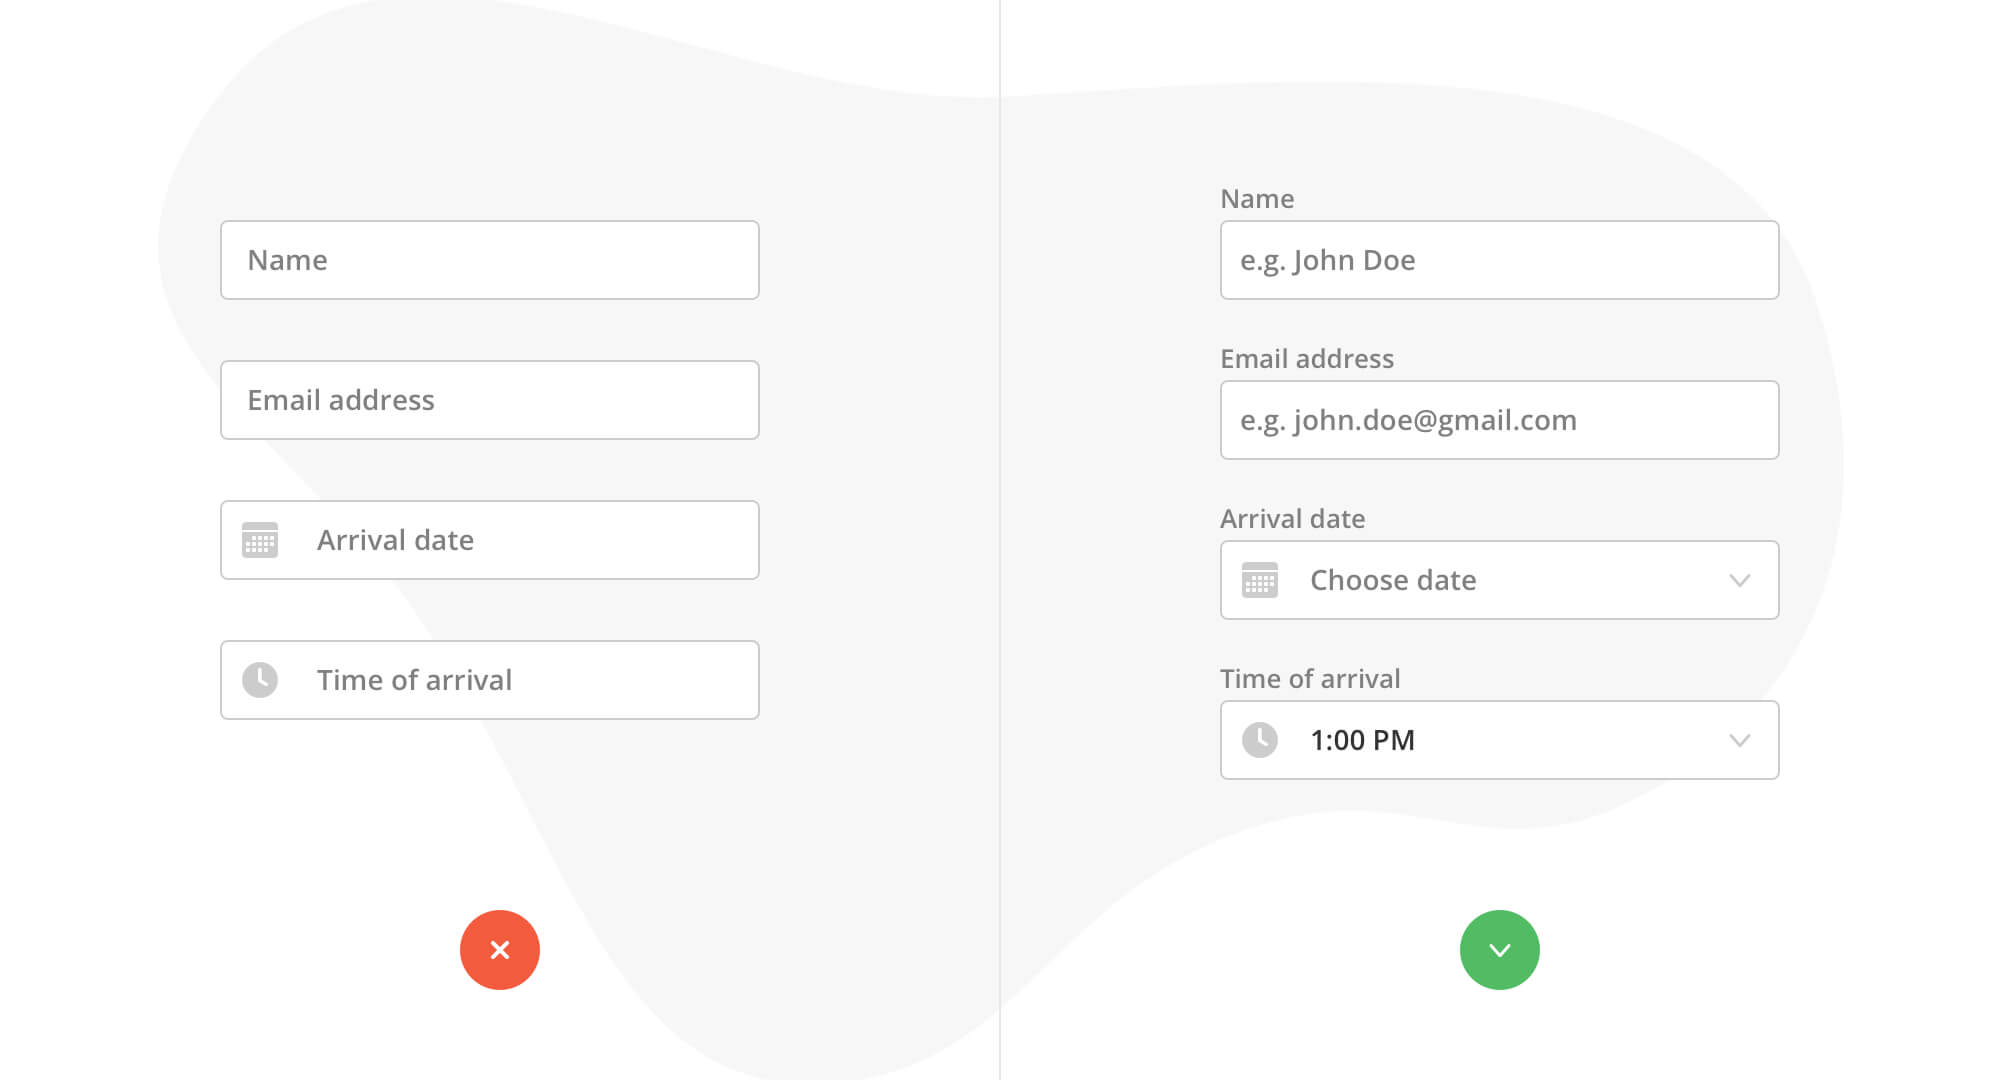_form_: (1211, 205, 1798, 797), (199, 202, 786, 736)
field: (1218, 697, 1785, 782), (1219, 376, 1785, 460), (1221, 539, 1785, 622), (1221, 219, 1781, 301), (218, 638, 759, 722), (218, 218, 759, 301), (218, 501, 761, 583), (218, 360, 757, 442)
